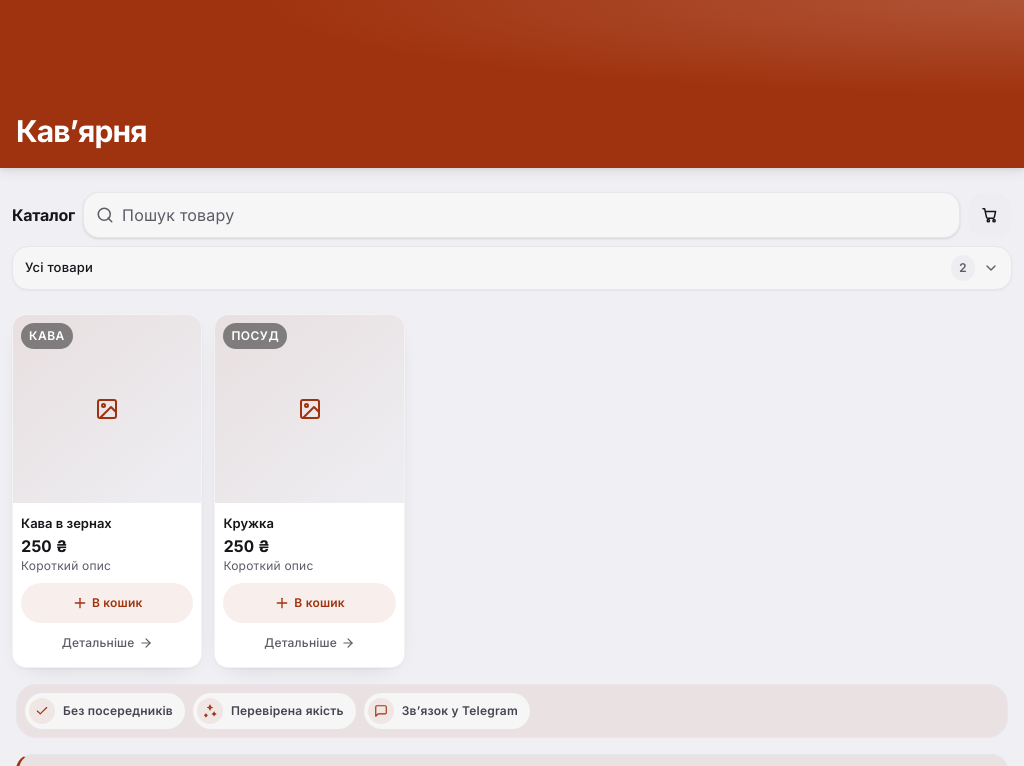
Test: ShopStore — кошик › порожній кошик каже, що робити далі
Click the button named "Кошик" at (990,215), box [968,193,1012,237]
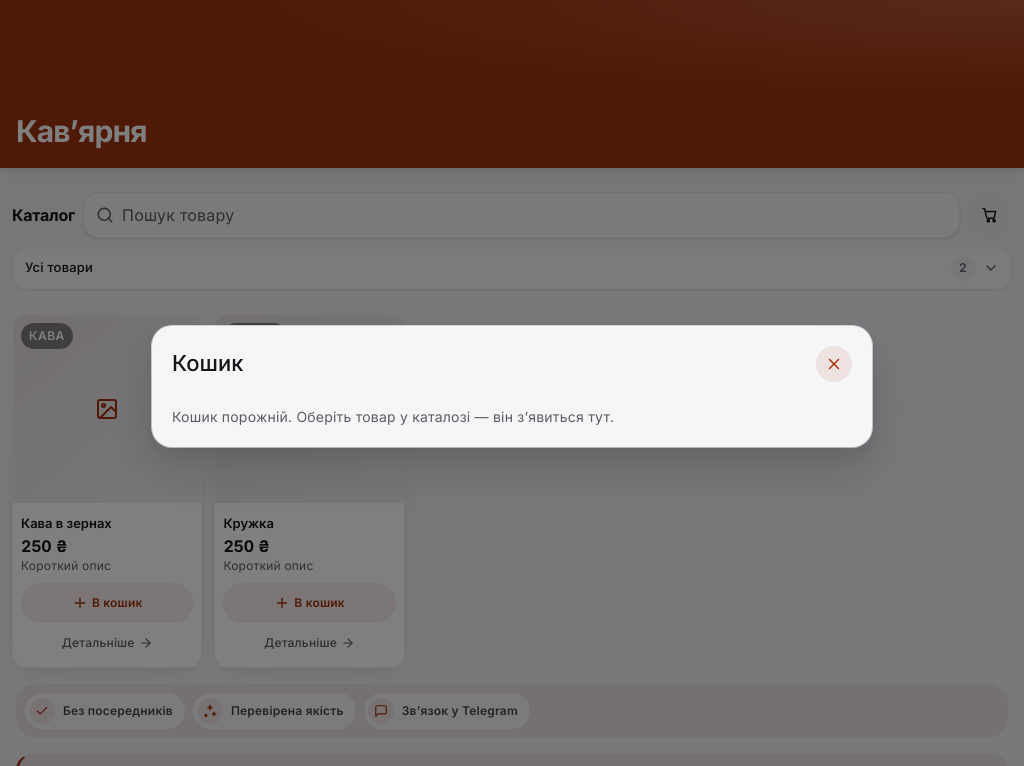
Expected: the dialog "Кошик" shows "порожн", [172,408,614,424]
